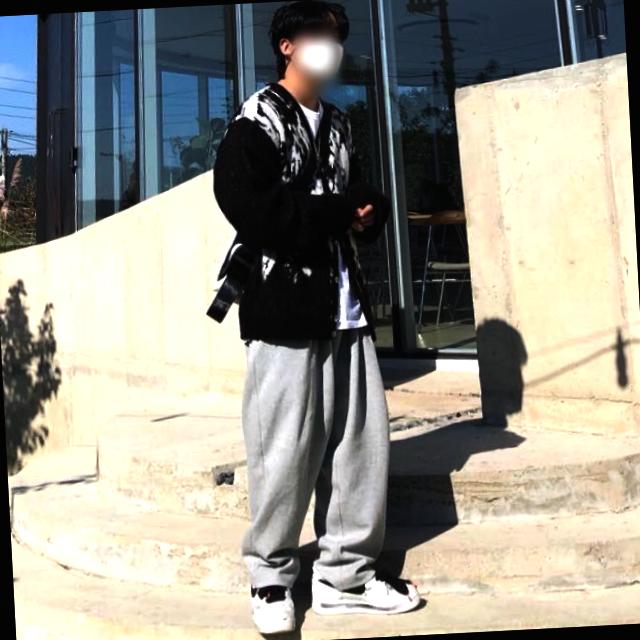cardigan: (208, 70, 399, 352)
trainingpants: (234, 312, 400, 599)
